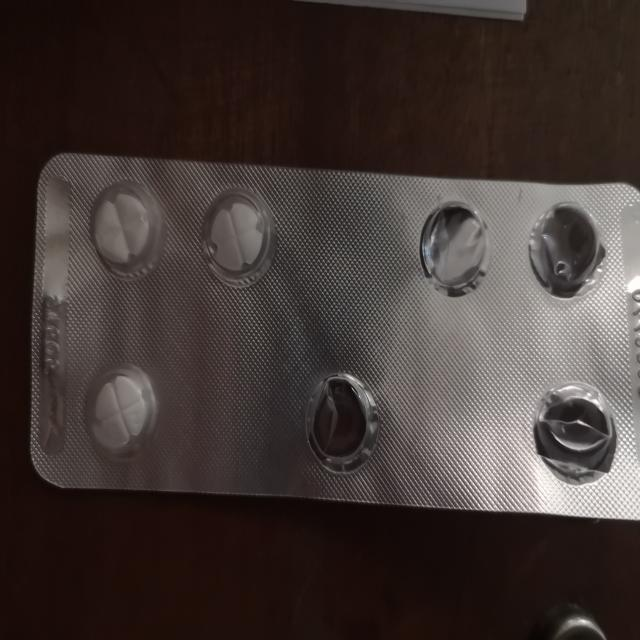Empty: (522, 378, 624, 492), (515, 196, 605, 303), (412, 192, 491, 304), (301, 371, 383, 475)
Pill: (195, 185, 277, 286), (84, 179, 160, 274), (81, 365, 155, 457)
